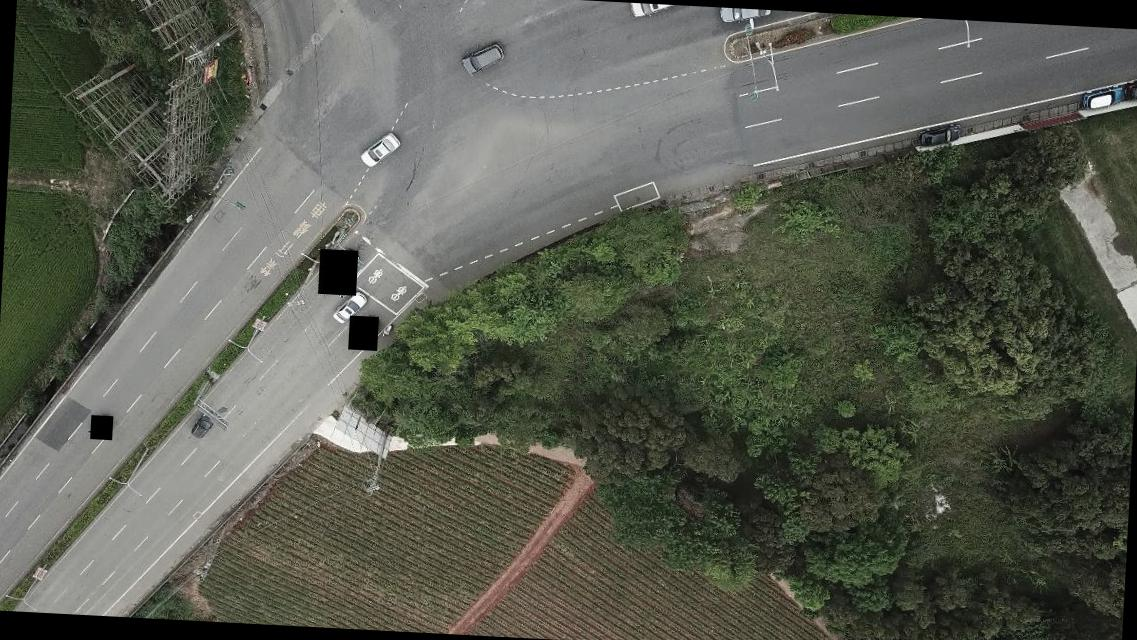vehicle: (358, 130, 400, 169), (460, 42, 506, 76), (918, 121, 961, 149), (332, 292, 366, 326), (719, 8, 774, 28), (1083, 86, 1124, 112), (188, 408, 217, 441), (628, 2, 678, 20), (1121, 78, 1136, 104)
